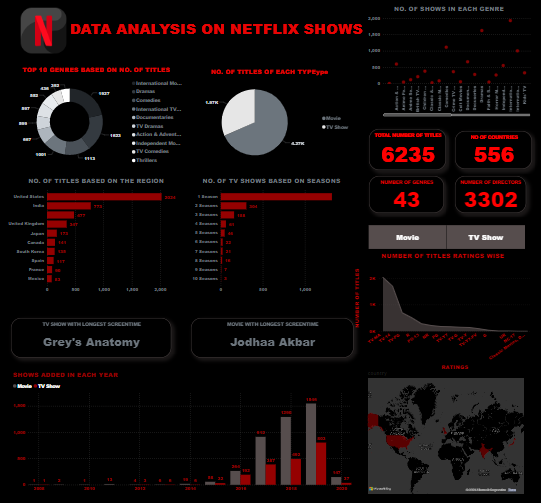

This screenshot's page, from the dashboard's own definition file:
{"tool":"powerbi","page":{"name":"Page 1","canvas":[1600,1500],"ordinal":0},"visuals":[{"type":"clusteredColumnChart","title":"SHOWS ADDED IN EACH YEAR","fields":{"Category":["netflix_titles.date_added.Variation.Date Hierarchy.Year"],"Y":["Count(netflix_titles.show_id)"],"Series":["netflix_titles.type"]},"box":[36.7,1100,1010,370],"z":0},{"type":"filledMap","fields":{"Category":["netflix_titles.country"]},"box":[1083.3,1100,473.3,370],"z":1000},{"type":"card","title":"TOTAL NUMBER OF TITLES","fields":{"Values":["Count(netflix_titles.show_id)"]},"box":[1092.5,389.8,227.4,121.1],"z":2000},{"type":"areaChart","title":"NUMBER OF TITLES RATINGS WISE","fields":{"Category":["netflix_titles.rating"],"Y":["Count(netflix_titles.show_id)"]},"box":[1045.3,750,531.5,357.3],"z":3000},{"type":"clusteredBarChart","title":"NO. OF TITLES BASED ON THE REGION","fields":{"Category":["netflix_titles.country"],"Y":["Count(netflix_titles.title)"]},"box":[20,527.5,532.5,355],"z":4000},{"type":"slicer","fields":{"Values":["netflix_titles.type"]},"box":[1065.9,667.3,510.8,82.7],"z":5000},{"type":"clusteredBarChart","title":"NO. OF TV SHOWS BASED ON SEASONS","fields":{"Category":["netflix_titles.duration"],"Y":["Count(netflix_titles.show_id)"]},"box":[564,528.5,481.3,354.3],"z":6000},{"type":"card","title":"NO OF COUNTRIES ","fields":{"Values":["Count(netflix_titles.country)"]},"box":[1346.5,395.7,227.4,112.2],"z":7000},{"type":"donutChart","title":"TOP 10 GENRES BASED ON NO. OF TITLES","fields":{"Category":["netflix_titles (2).listed_in"],"Y":["Count(netflix_titles (2).show_id)"]},"box":[20,200,532.5,307.5],"z":8000},{"type":"card","title":"NUMBER OF GENRES","fields":{"Values":["Count(netflix_titles (2).listed_in)"]},"box":[1092.5,528.5,221.5,109.3],"z":9000},{"type":"pieChart","title":"NO. OF TITLES OF EACH TYPEype","fields":{"Category":["netflix_titles (2).type"],"Y":["Count(netflix_titles (2).show_id)"]},"box":[552.5,207.5,492.5,300],"z":10000},{"type":"card","title":"NUMBER OF DIRECTORS","fields":{"Values":["Count(netflix_titles (2).director)"]},"box":[1346.5,528.5,209.6,109.3],"z":11000},{"type":"textbox","box":[203.7,56.1,1175.2,76.8],"z":12000},{"type":"image","box":[59.1,20.7,144.7,156.5],"z":13000},{"type":"card","title":"MOVIE WITH LONGEST SCREENTIME","fields":{"Values":["Min(netflix_titles (2).title)"]},"box":[566.7,946.7,480,116.7],"z":13001},{"type":"card","title":"TV SHOW WITH LONGEST SCREENTIME","fields":{"Values":["Min(netflix_titles.title)"]},"box":[36.7,946.7,473.3,116.7],"z":13002},{"type":"scatterChart","title":"NO. OF SHOWS IN EACH GENRE","fields":{"X":["netflix_titles (2).listed_in"],"Y":["Count(netflix_titles (2).show_id)"]},"box":[1083.7,20.7,490.2,336.6],"z":13003}]}

Visuals, with their boxes in screenshot pixels (x1, y1, x2, y2), scaled from the page's 1600x1500 canvas onto the 541x503 screenshot:
"SHOWS ADDED IN EACH YEAR" clusteredColumnChart: l=12, t=369, r=354, b=493
filledMap - netflix_titles.country: l=366, t=369, r=526, b=493
"TOTAL NUMBER OF TITLES" card: l=369, t=131, r=446, b=171
"NUMBER OF TITLES RATINGS WISE" areaChart: l=353, t=252, r=533, b=371
"NO. OF TITLES BASED ON THE REGION" clusteredBarChart: l=7, t=177, r=187, b=296
slicer - netflix_titles.type: l=360, t=224, r=533, b=252
"NO. OF TV SHOWS BASED ON SEASONS" clusteredBarChart: l=191, t=177, r=353, b=296
"NO OF COUNTRIES " card: l=455, t=133, r=532, b=170
"TOP 10 GENRES BASED ON NO. OF TITLES" donutChart: l=7, t=67, r=187, b=170
"NUMBER OF GENRES" card: l=369, t=177, r=444, b=214
"NO. OF TITLES OF EACH TYPEype" pieChart: l=187, t=70, r=353, b=170
"NUMBER OF DIRECTORS" card: l=455, t=177, r=526, b=214
textbox: l=69, t=19, r=466, b=45
image: l=20, t=7, r=69, b=59
"MOVIE WITH LONGEST SCREENTIME" card: l=192, t=317, r=354, b=357
"TV SHOW WITH LONGEST SCREENTIME" card: l=12, t=317, r=172, b=357
"NO. OF SHOWS IN EACH GENRE" scatterChart: l=366, t=7, r=532, b=120
